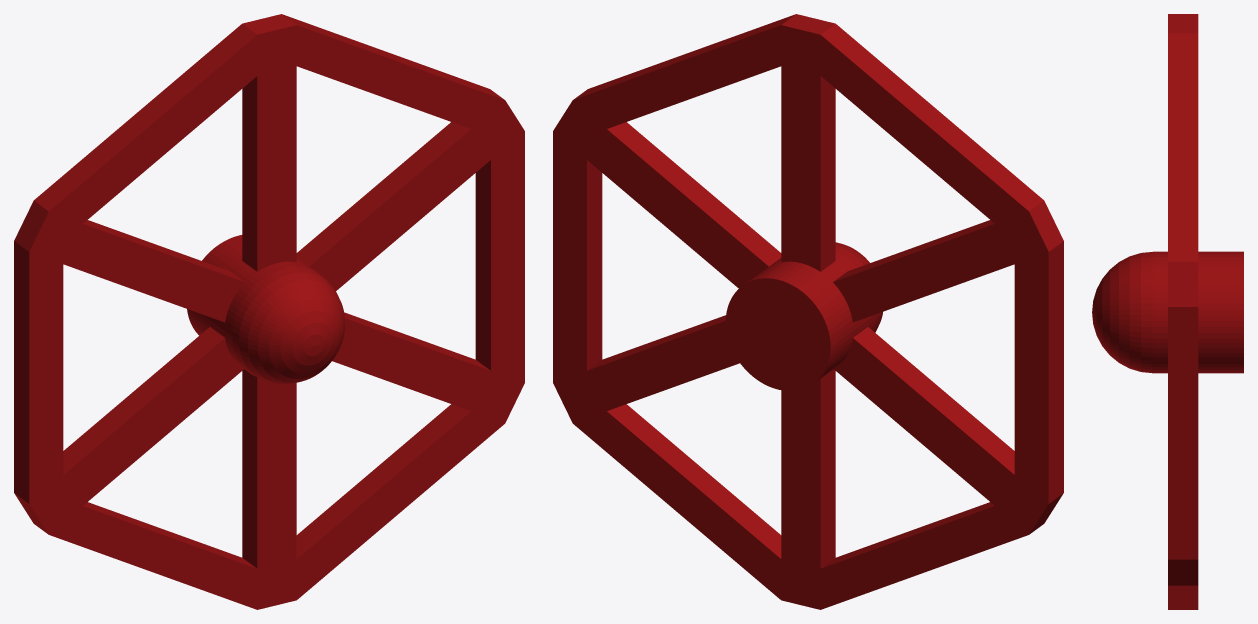
Rendered from Valve.fbx.
The picture shows the model from 3 angles, left to right: view 1: azimuth 30°, elevation 25°; view 2: azimuth 150°, elevation 25°; view 3: azimuth 270°, elevation 25°; orthographic projection.
Parts seen in each view (by area): view 1: Valve; view 2: Valve; view 3: Valve.
Part boxes in pixels (<box>): Valve: <box>14,14,524,609</box>; Valve: <box>553,14,1063,609</box>; Valve: <box>1092,14,1243,609</box>.
Size of the model in its own units: 37.77 by 41.89 by 10.
